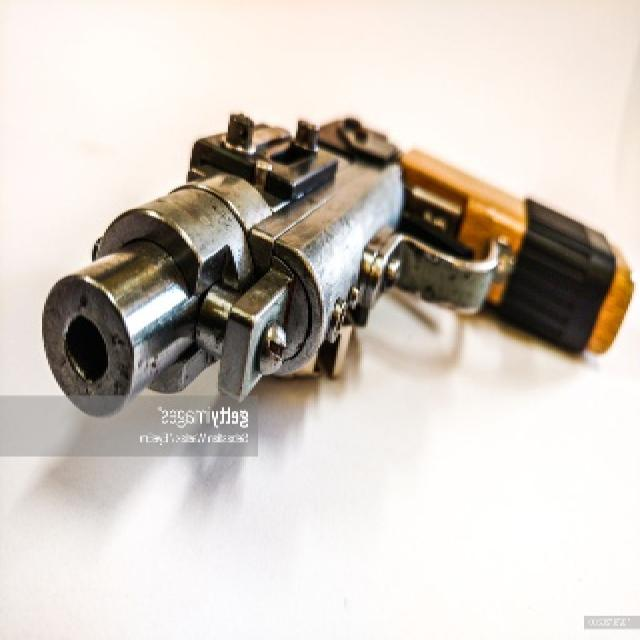handgun: (37, 121, 637, 417)
